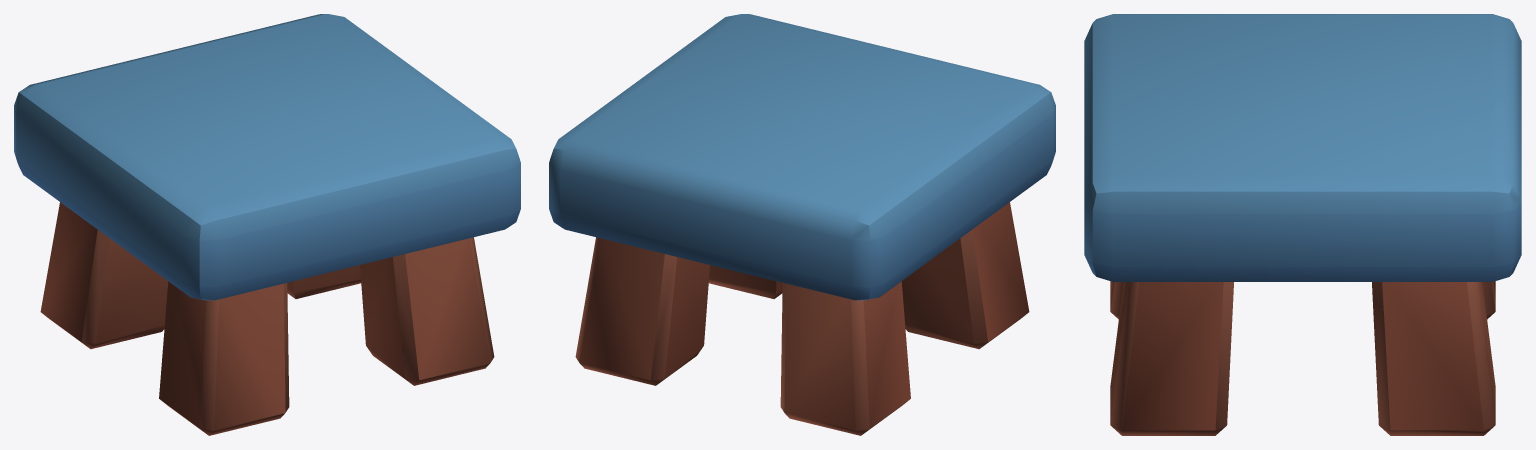
The model's file is chair-stool.glb.
3 views of the same model, side by side, from view 1: azimuth 30°, elevation 25°; view 2: azimuth 150°, elevation 25°; view 3: azimuth 270°, elevation 25° (orthographic). The views are drawn at different scales.
Parts seen in each view (by area): view 1: chair_stool; view 2: chair_stool; view 3: chair_stool.
Part boxes in pixels (x1,y1,x2,y2): chair_stool: [14, 14, 520, 435]; chair_stool: [549, 14, 1055, 435]; chair_stool: [1084, 14, 1521, 435].
Size of the model in its own units: 0.75 by 0.5 by 0.75.
